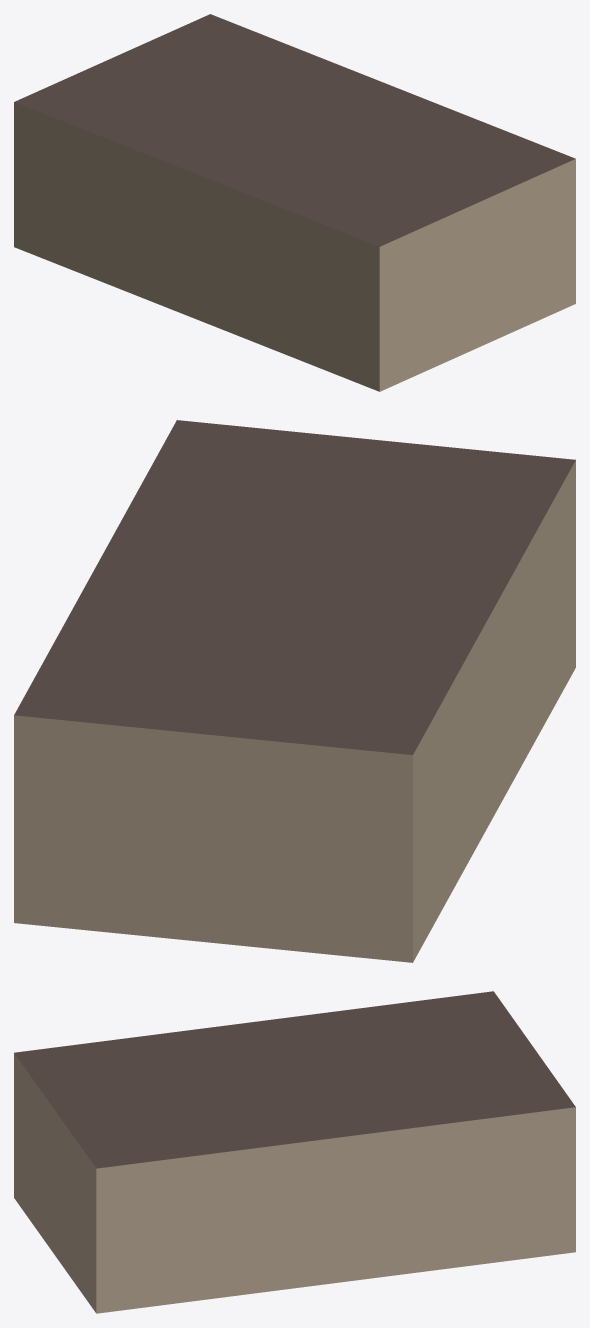
3 views of the same model, one above another, from view 1: azimuth 30°, elevation 25°; view 2: azimuth 150°, elevation 25°; view 3: azimuth 270°, elevation 25° (orthographic). The views are drawn at different scales.
Visible parts, largest first — view 1: HP-w858839012; view 2: HP-w858839012; view 3: HP-w858839012.
Part boxes in pixels (<box>): HP-w858839012: <box>14,14,575,391</box>; HP-w858839012: <box>14,420,575,962</box>; HP-w858839012: <box>14,991,575,1313</box>.
Size of the model in its own units: 23.59 by 9 by 31.59.
